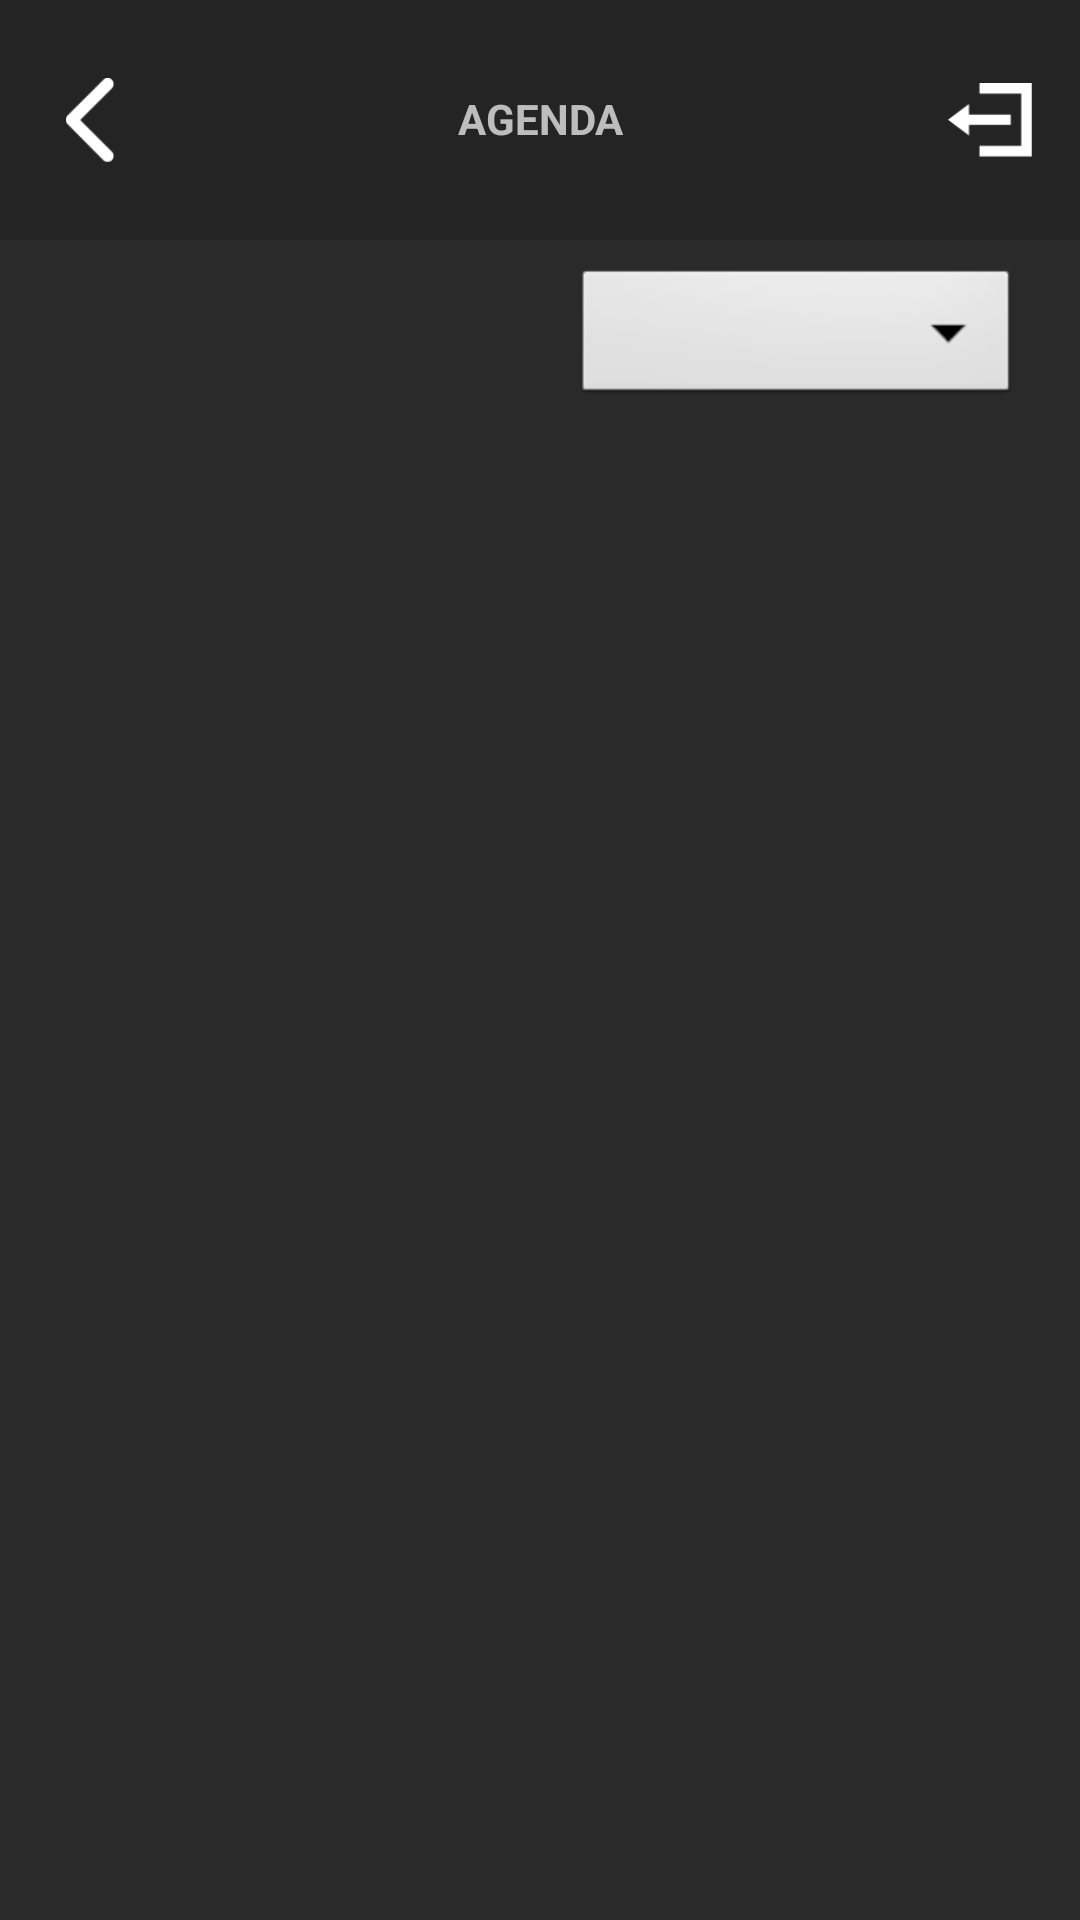

Named icons in this screenshot (1080×1920) and their centers, (x=x, y=y):
back: (x=90, y=120)
